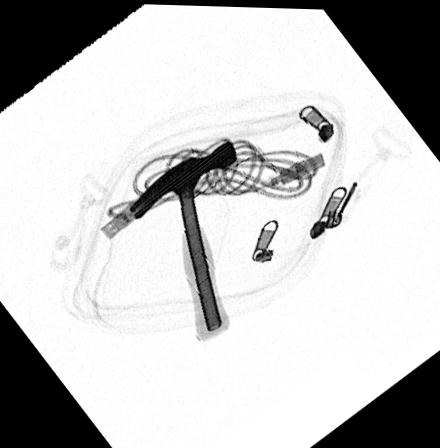Hammer: (129, 138, 239, 340)
